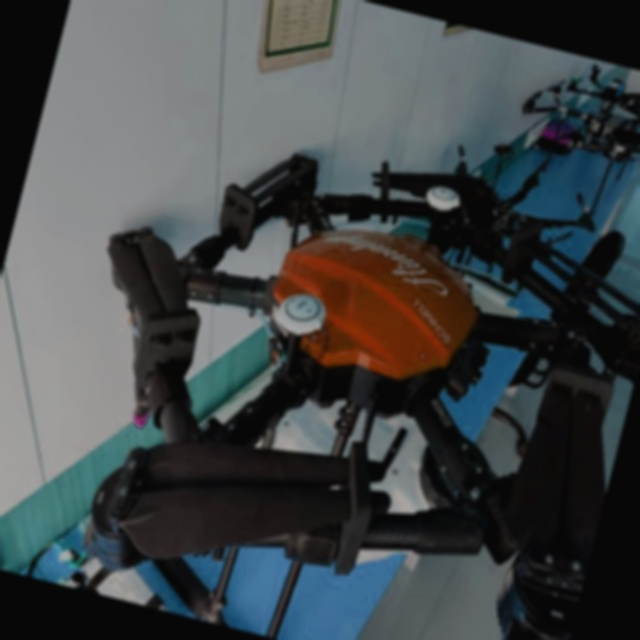agriculturedrone: (21, 97, 640, 640)
